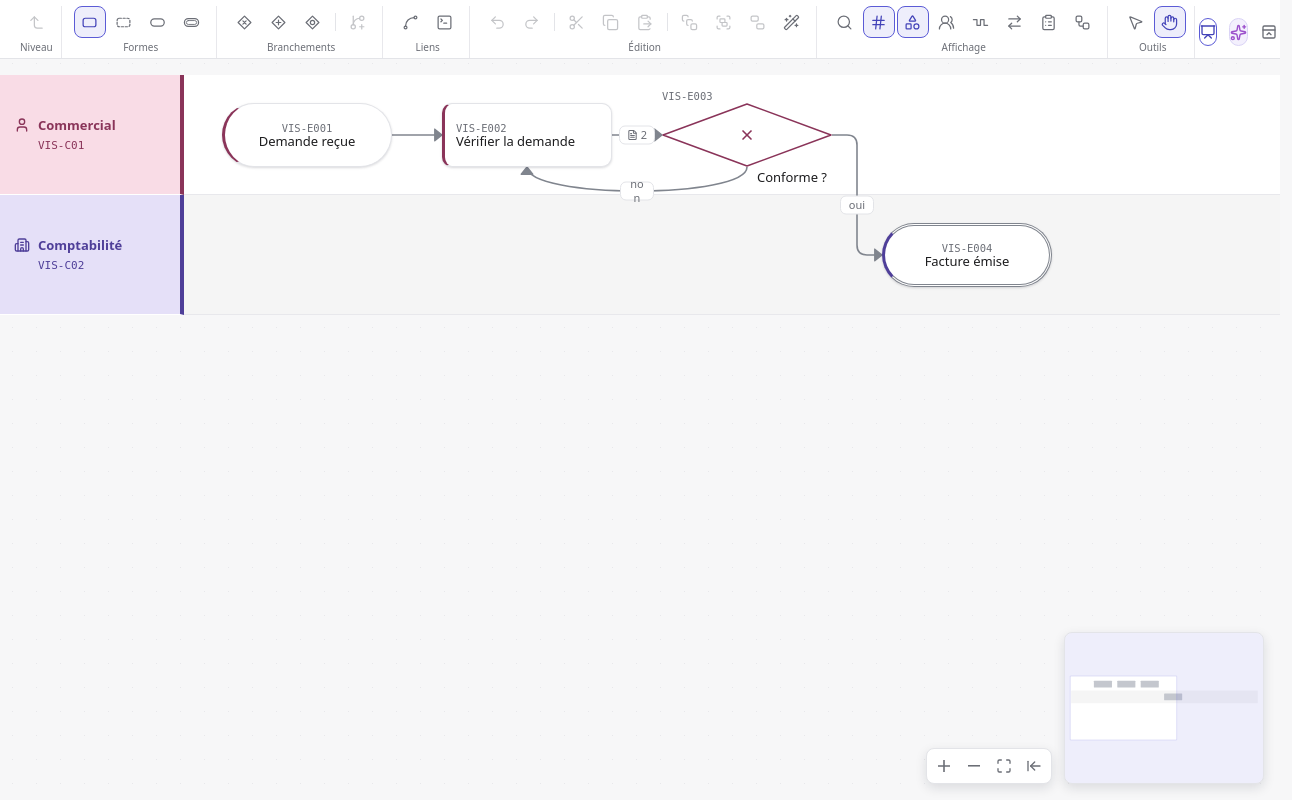
Test: a line leads to its step (ADR 112 point 5) › Escape closes the panel and gives the focus back to the map
Click the button with test id "ribbon-plan": x=1049, y=22 [1033,6,1065,38]
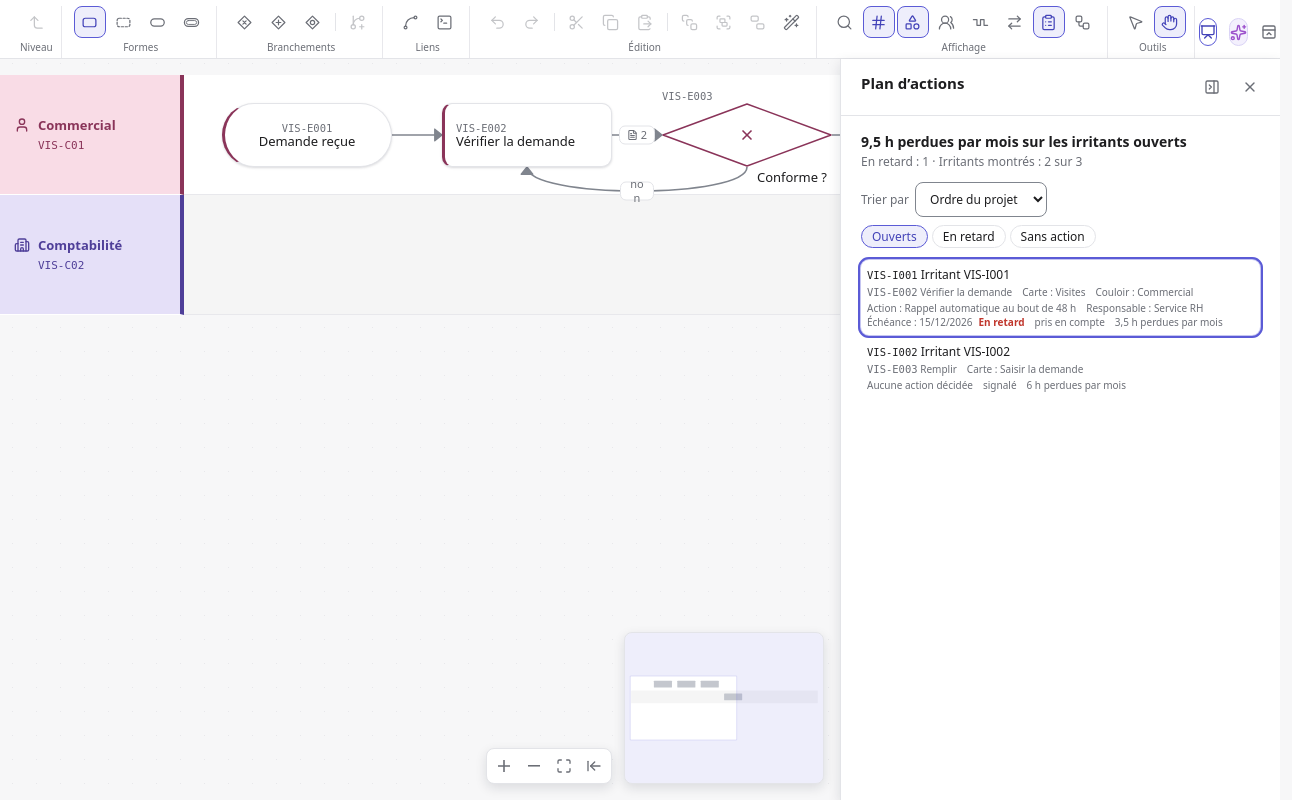
Press Escape in the button with aria-label "Aller à VIS-E002", box [861,260,1260,335]
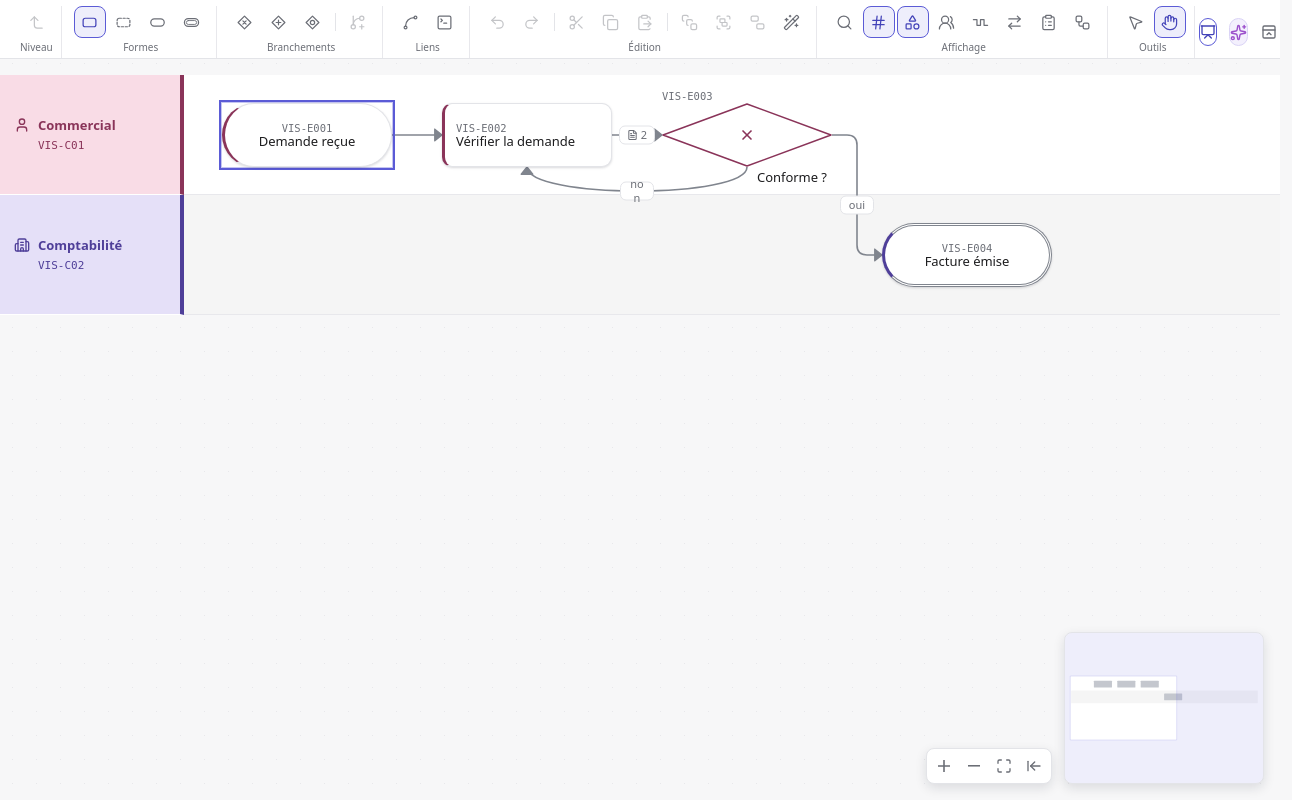
Check: the element with test id "plan-panel" is gone
